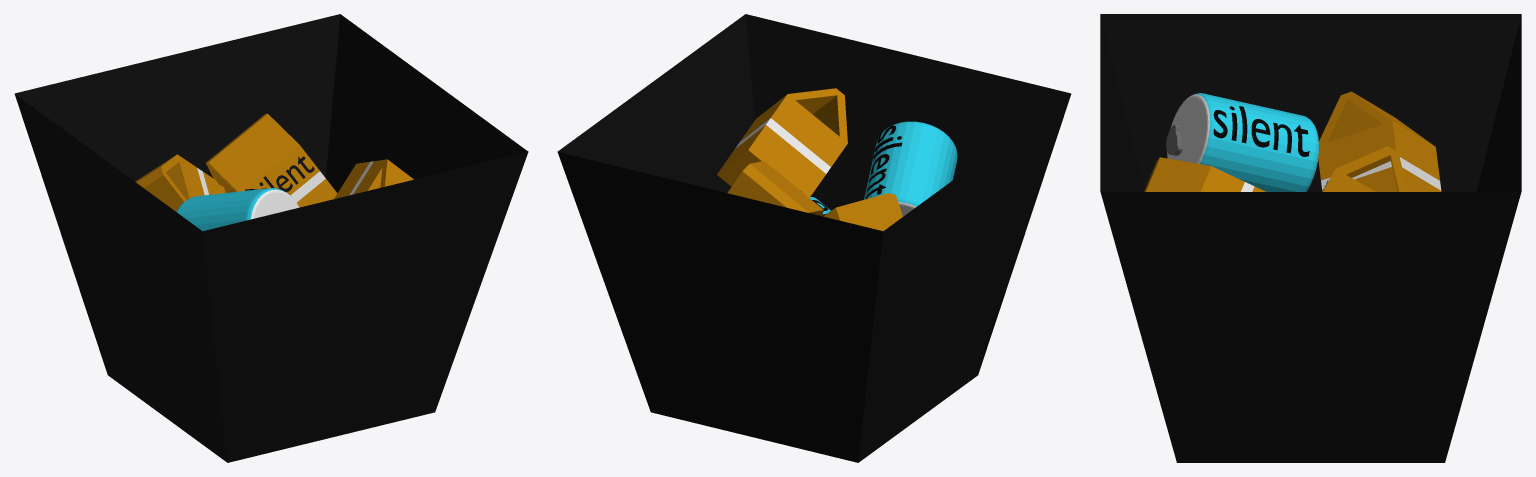
The model's file is tacho de basura (1).fbx.
3 views of the same model, side by side, from view 1: azimuth 30°, elevation 25°; view 2: azimuth 150°, elevation 25°; view 3: azimuth 270°, elevation 25° (orthographic). The views are drawn at different scales.
Parts seen in each view (by area): view 1: Cube, Cube.001, Text.002, Cube.002, Cube.003; view 2: Cube, Cube.003, Text.002, Cube.001, Cube.002; view 3: Cube, Text.002, Cube.002, Cube.003, Cube.001.
Boxes of the visible parts, left/top/right/bottom form: Cube: left=14, top=14, right=528, bottom=462; Cube.001: left=206, top=113, right=337, bottom=207; Text.002: left=176, top=188, right=299, bottom=231; Cube.002: left=135, top=154, right=225, bottom=211; Cube.003: left=334, top=159, right=413, bottom=198; Cube: left=557, top=14, right=1071, bottom=462; Cube.003: left=717, top=88, right=847, bottom=197; Text.002: left=864, top=121, right=957, bottom=216; Cube.001: left=727, top=161, right=823, bottom=216; Cube.002: left=823, top=193, right=902, bottom=231; Cube: left=1100, top=14, right=1521, bottom=462; Text.002: left=1166, top=93, right=1318, bottom=191; Cube.002: left=1318, top=91, right=1441, bottom=191; Cube.003: left=1144, top=157, right=1265, bottom=191; Cube.001: left=1323, top=146, right=1407, bottom=191.
Bounding box in the file's own units: 200 × 159 × 200.
